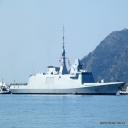Fragata: (10, 25, 127, 97)
